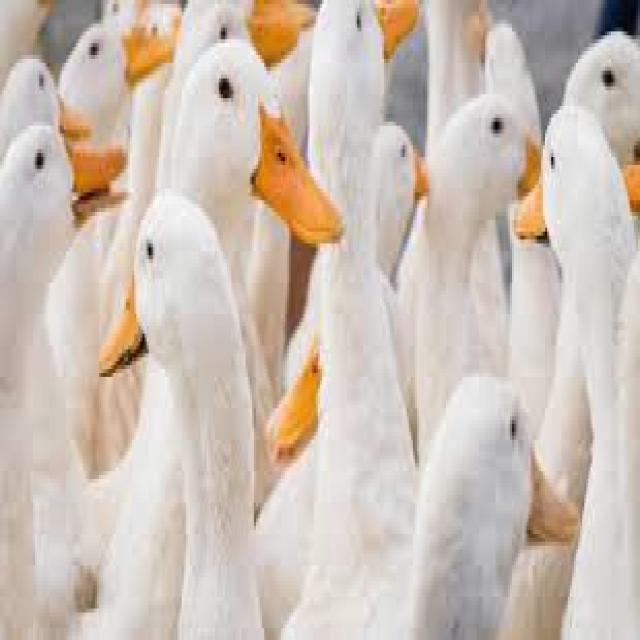duck: (99, 188, 262, 636), (0, 126, 124, 636), (514, 106, 634, 507), (409, 373, 578, 636), (413, 94, 537, 452), (165, 39, 337, 279), (308, 0, 419, 255)
